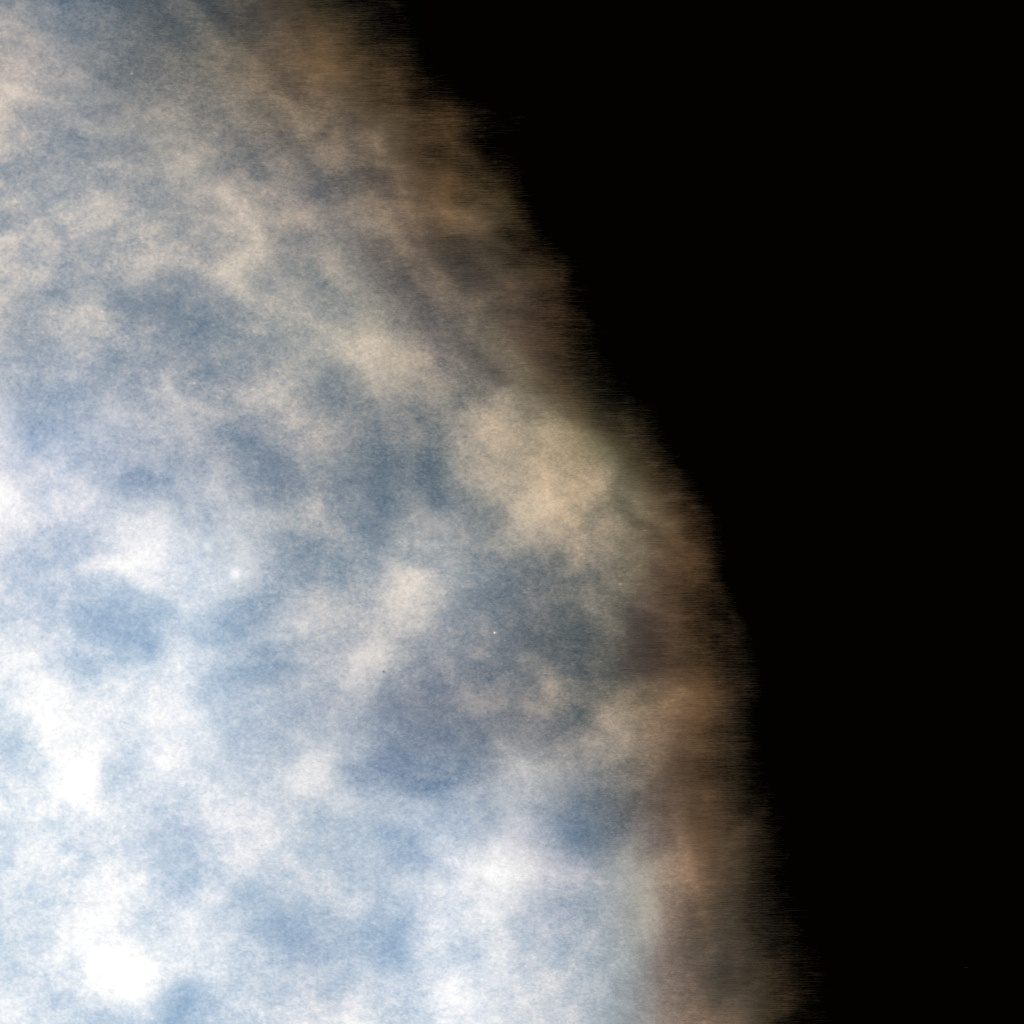tumor: (319, 334, 705, 690)
